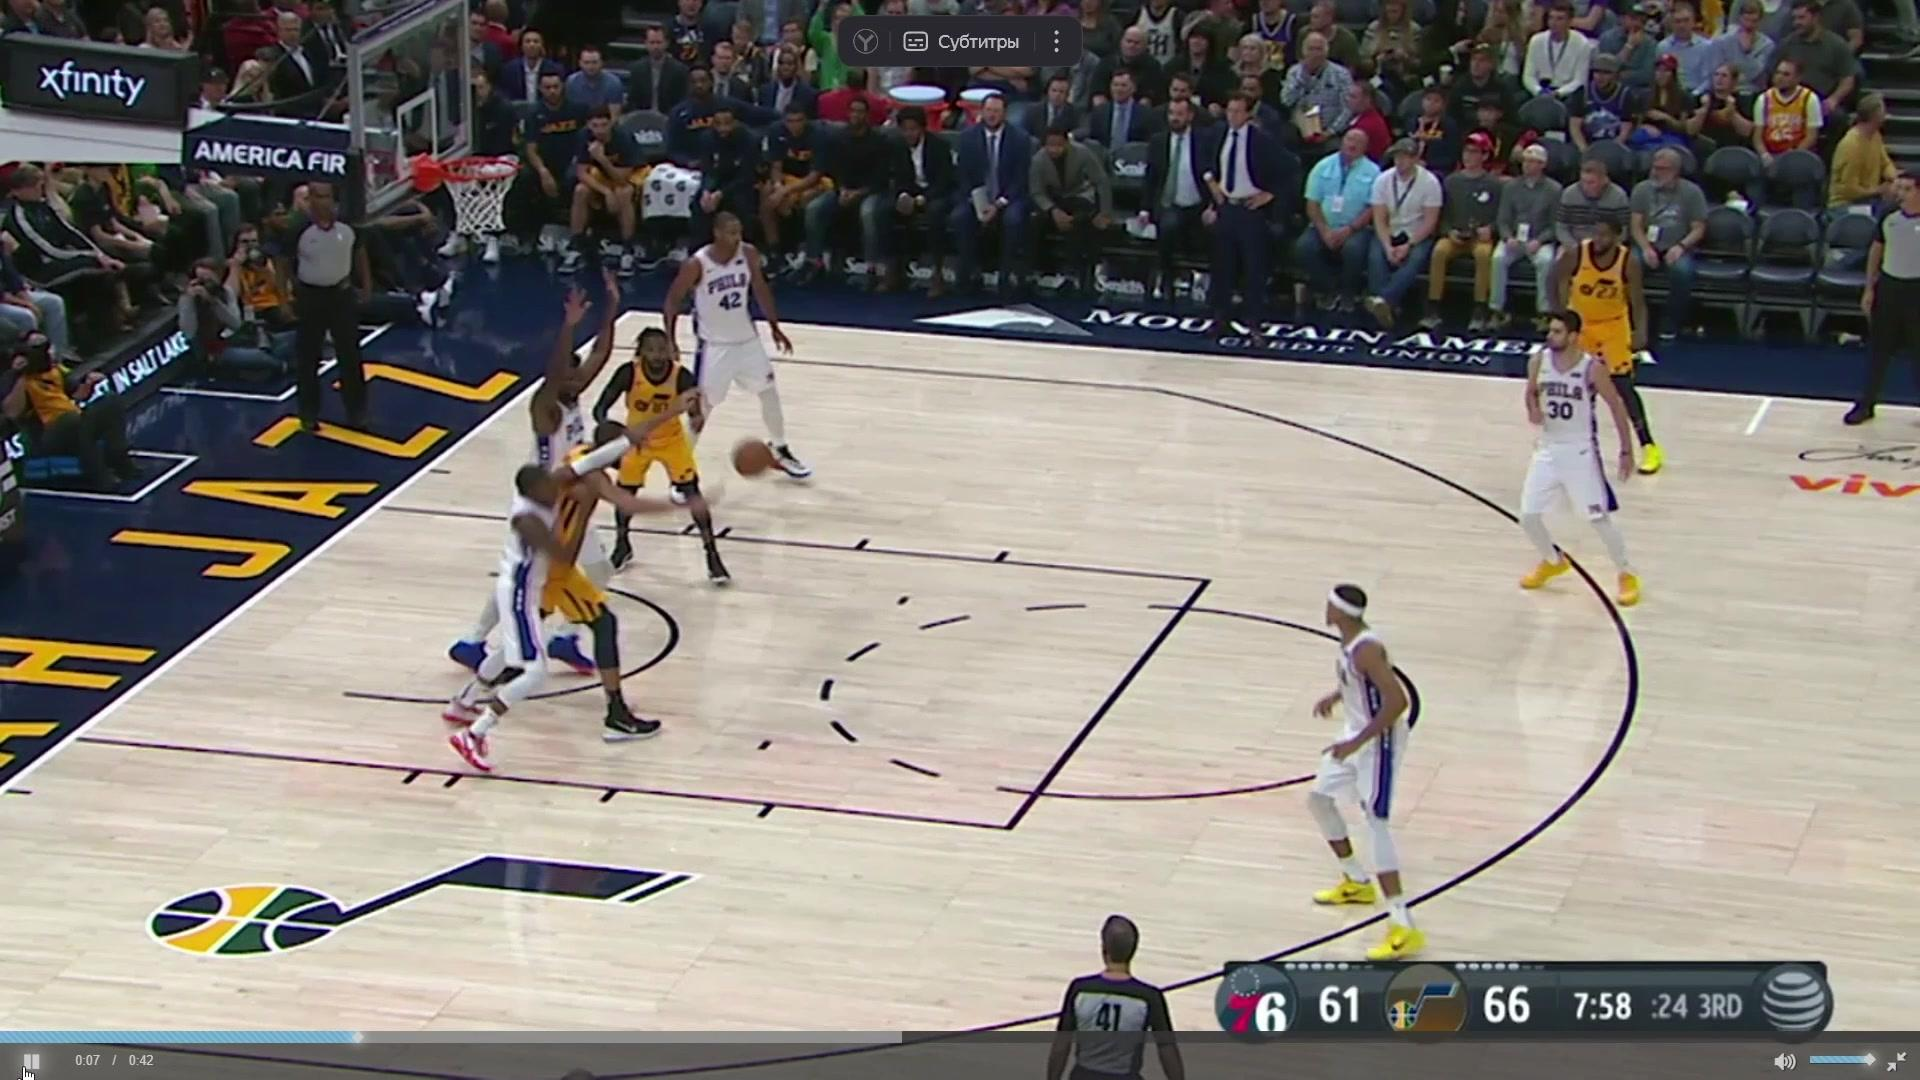no_foul: (407, 413, 709, 803)
